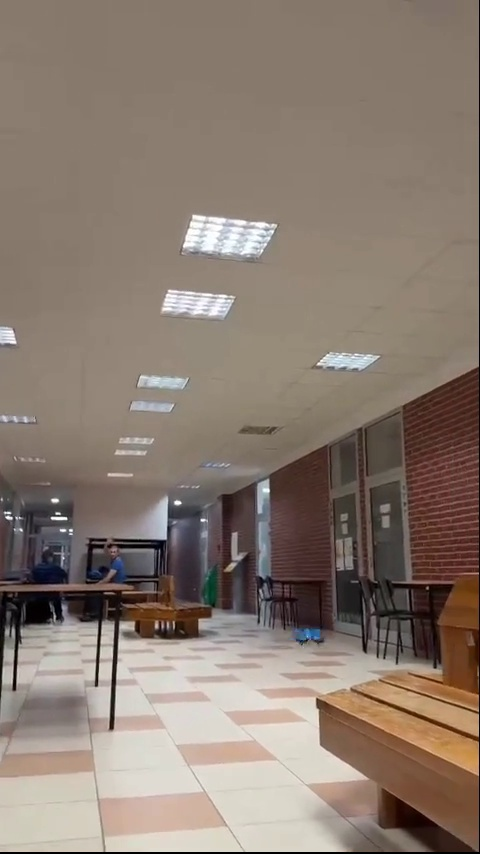drone: (294, 625, 325, 647)
no vest: (18, 535, 72, 590), (89, 539, 128, 586)
